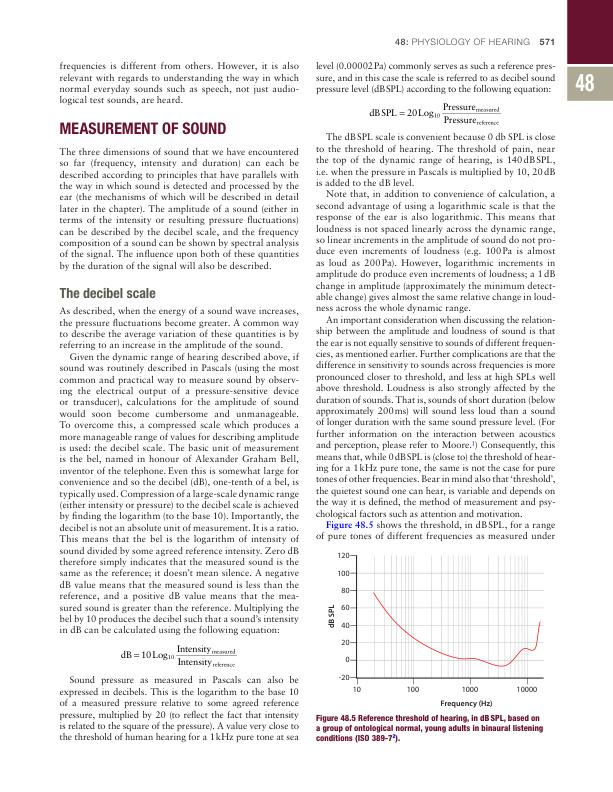caption: (315, 714, 545, 744)
header: (393, 37, 531, 46)
image: (321, 545, 556, 712)
section-heading: (59, 121, 227, 136)
sub-section-heading: (58, 287, 156, 300)
text: (315, 60, 557, 543), (58, 305, 300, 744), (57, 146, 300, 272), (58, 60, 299, 106)
